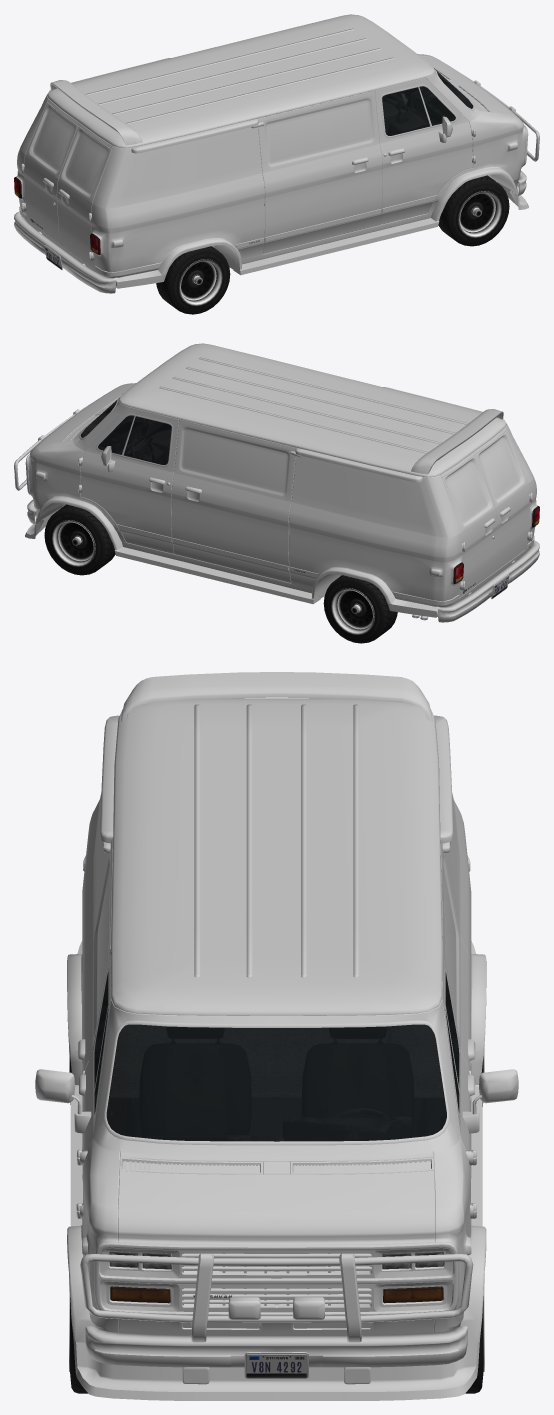
Rendered from Shvan92_INF.fbx.
The picture shows the model from 3 angles, top to bottom: view 1: azimuth 30°, elevation 25°; view 2: azimuth 150°, elevation 25°; view 3: azimuth 270°, elevation 25°; orthographic projection. The views are drawn at different scales.
Parts seen in each view (by area): view 1: Shvan92_Body, Shvan92_Infvan_Stuff, Shvan92_WheelCustom_FR, Shvan92_WheelCustom_RR, Shvan92_Bottom, Shvan92_Interior, Shvan92_Bumper_rear, Shvan92_Glass_Passanger, Shvan92_Hood, Shvan92_Body_glass, Shvan92_Bullbar_B; view 2: Shvan92_Body, Shvan92_Infvan_Stuff, Shvan92_WheelCustom_FL, Shvan92_WheelCustom_RL, Shvan92_Bottom, Shvan92_Interior, Shvan92_Bumper_rear, Shvan92_Glass_Driver, Shvan92_Hood, Shvan92_Body_glass, Shvan92_Bullbar_B; view 3: Shvan92_Body, Shvan92_Interior, Shvan92_Windshield, Shvan92_Bottom, Shvan92_Infvan_Stuff, Shvan92_Hood, Shvan92_Bumper_front, Shvan92_Bullbar_B, Shvan92_Headlights_Glass, Shvan92_Blinkers, Shvan92INF_Numberplate_front, Shvan92_Headlights.
Part boxes in pixels (x1,y1,x2,y2): Shvan92_Body: (16,14,525,277); Shvan92_Infvan_Stuff: (22,80,528,288); Shvan92_WheelCustom_FR: (438,175,509,246); Shvan92_WheelCustom_RR: (156,246,230,314); Shvan92_Bottom: (19,64,528,276); Shvan92_Interior: (264,77,472,239); Shvan92_Bumper_rear: (14,211,115,293); Shvan92_Glass_Passanger: (382,87,430,135); Shvan92_Hood: (420,56,519,118); Shvan92_Body_glass: (419,86,455,125); Shvan92_Bullbar_B: (461,73,539,161); Shvan92_Body: (28,343,537,606); Shvan92_Infvan_Stuff: (25,409,531,617); Shvan92_WheelCustom_FL: (44,504,115,575); Shvan92_WheelCustom_RL: (323,575,397,643); Shvan92_Bottom: (25,393,534,620); Shvan92_Interior: (81,406,171,464); Shvan92_Bumper_rear: (438,540,539,622); Shvan92_Glass_Driver: (123,416,171,464); Shvan92_Hood: (34,385,133,447); Shvan92_Body_glass: (98,415,134,454); Shvan92_Bullbar_B: (14,402,92,490); Shvan92_Body: (76,698,476,1335); Shvan92_Interior: (89,950,458,1141); Shvan92_Windshield: (106,1024,446,1141); Shvan92_Bottom: (35,856,518,1384); Shvan92_Infvan_Stuff: (67,672,486,1400); Shvan92_Hood: (118,1170,435,1244); Shvan92_Bumper_front: (85,1326,467,1378); Shvan92_Bullbar_B: (80,1253,473,1342); Shvan92_Headlights_Glass: (109,1251,443,1303); Shvan92_Blinkers: (110,1286,442,1302); Shvan92INF_Numberplate_front: (246,1354,307,1377); Shvan92_Headlights: (110,1252,443,1268).
Bounding box in the file's own units: 5.01 × 2.02 × 2.35.
